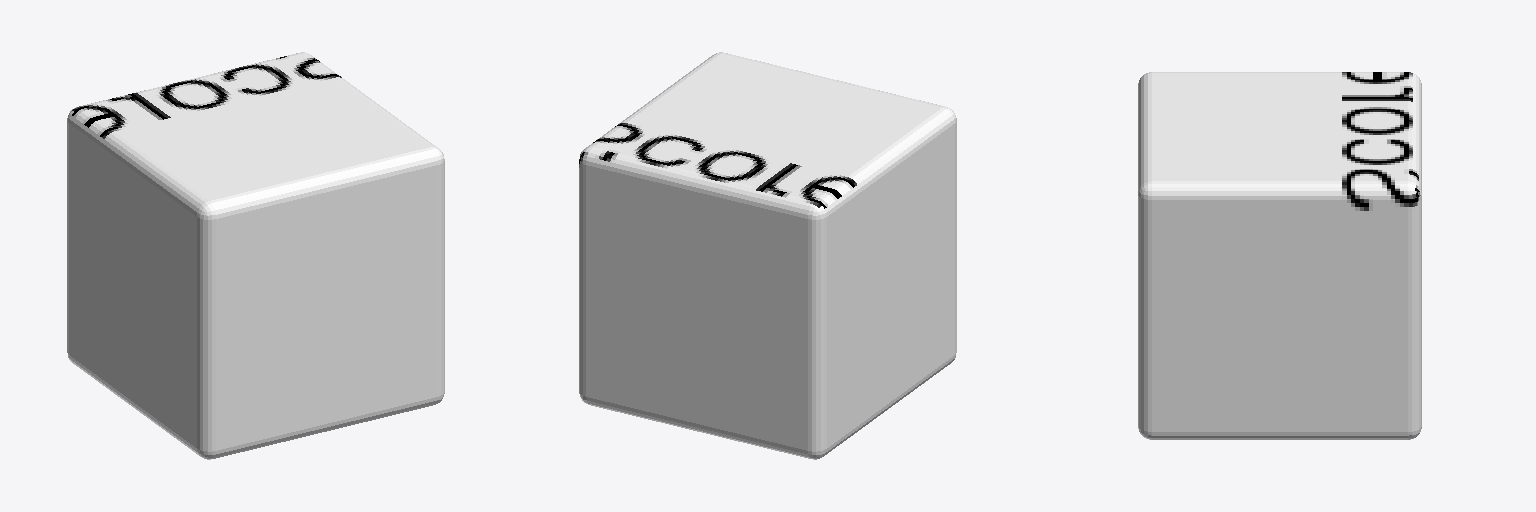
3 renders of one model, left to right at view 1: azimuth 30°, elevation 25°; view 2: azimuth 150°, elevation 25°; view 3: azimuth 270°, elevation 25°, orthographic.
Parts seen in each view (by area): view 1: Cube_Finished_Cube.001; view 2: Cube_Finished_Cube.001; view 3: Cube_Finished_Cube.001.
Boxes of the visible parts, x1,y1,x2,y2 form: Cube_Finished_Cube.001: [67, 52, 444, 459]; Cube_Finished_Cube.001: [579, 52, 956, 459]; Cube_Finished_Cube.001: [1138, 72, 1421, 439].
Bounding box in the file's own units: 2 × 2 × 2.
Materials: 1 (1 with a texture image).